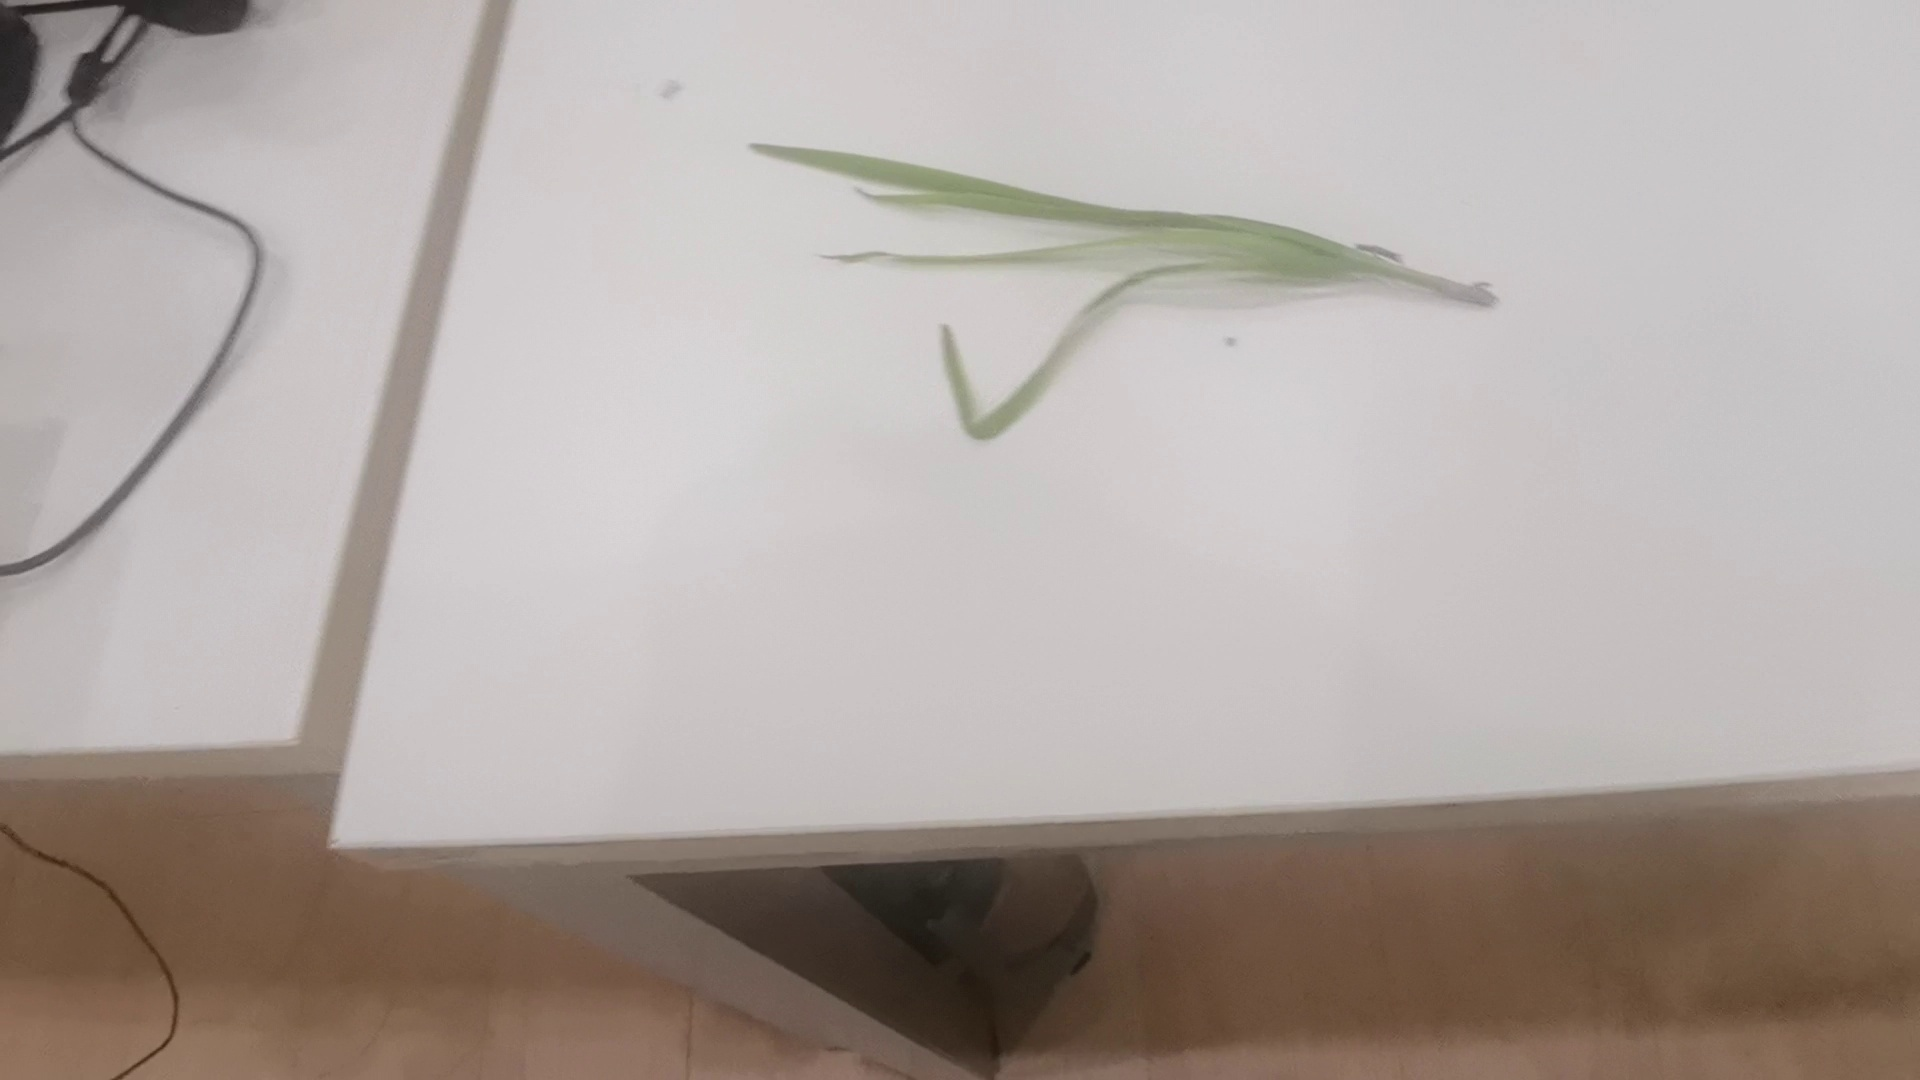chives: (749, 136, 1502, 438)
